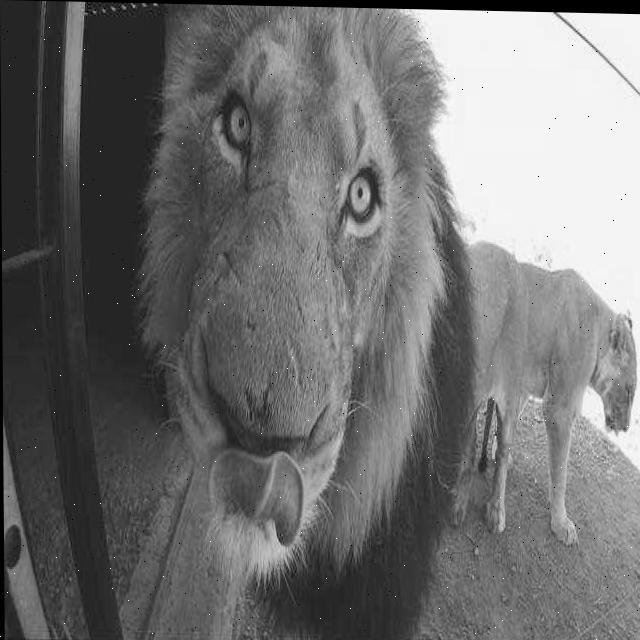Lion: (143, 3, 439, 593)
